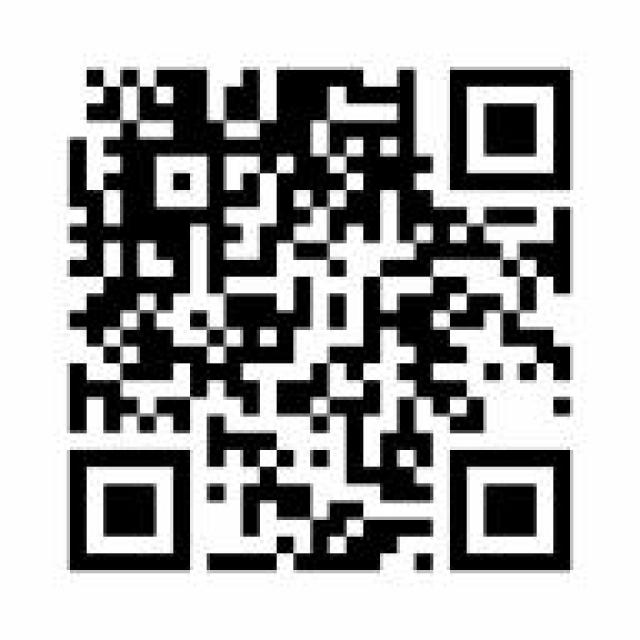QR_CODE: (58, 55, 590, 587)
